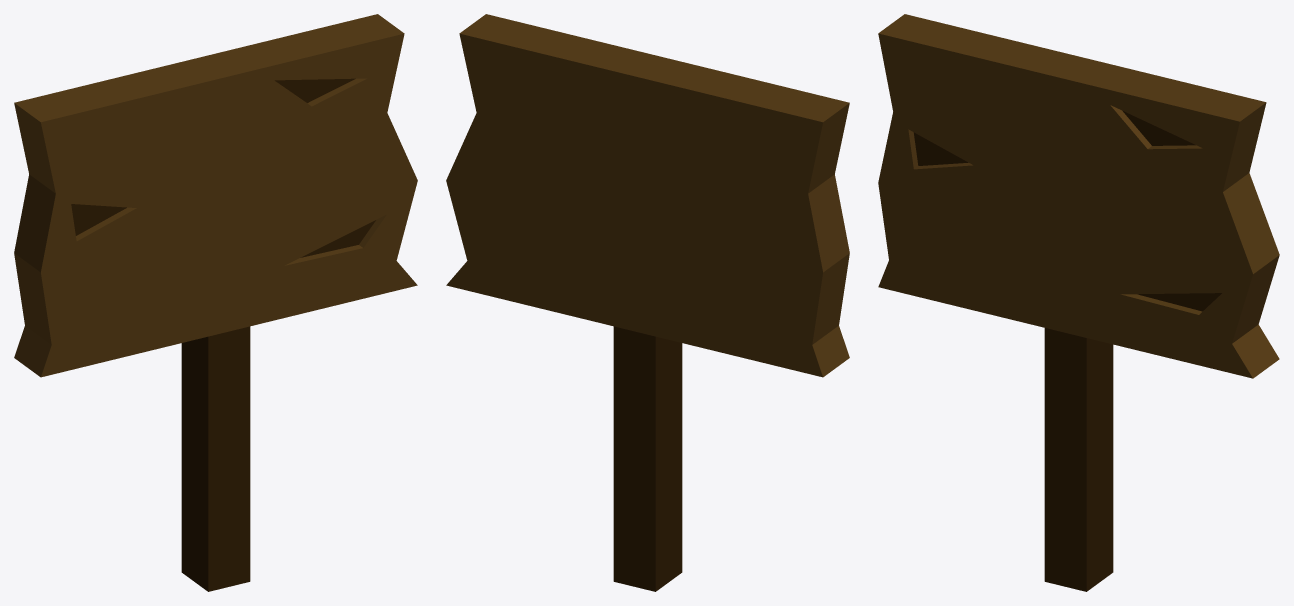
Rendered from Sign.fbx.
The picture shows the model from 3 angles, left to right: view 1: azimuth 30°, elevation 25°; view 2: azimuth 150°, elevation 25°; view 3: azimuth 330°, elevation 25°; orthographic projection.
Parts seen in each view (by area): view 1: Sign; view 2: Sign; view 3: Sign.
Part boxes in pixels (bbox=[...]): Sign: bbox=[14, 14, 417, 591]; Sign: bbox=[446, 14, 849, 591]; Sign: bbox=[878, 14, 1279, 591].
Size of the model in its own units: 3.09 by 0.3795 by 4.
